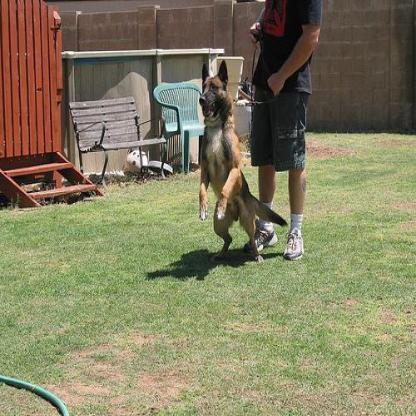malinois: (190, 48, 291, 267)
